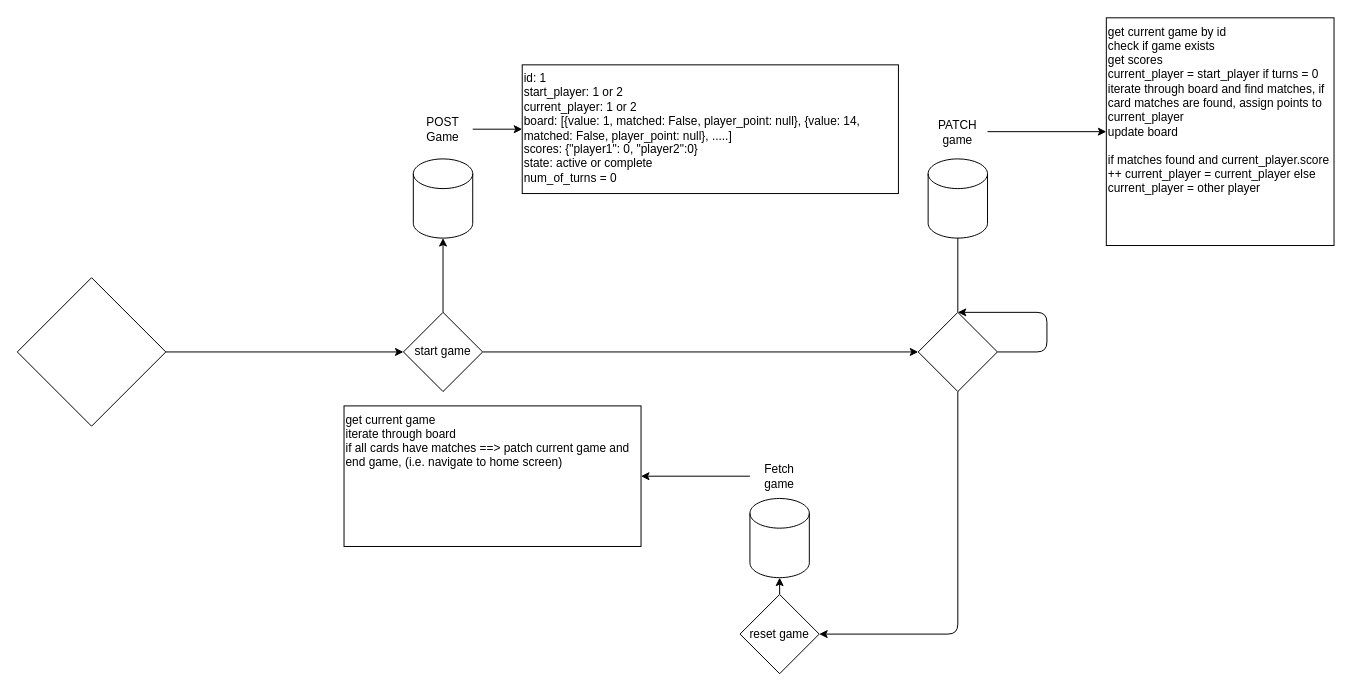
This 1351x691 diagram has some shape labels left out. Here are the shapes that lost their labels. From the top down, the centre of each, then its label:
At (x=91, y=351): "fetch home".
At (x=957, y=351): "start_player takes turn".
